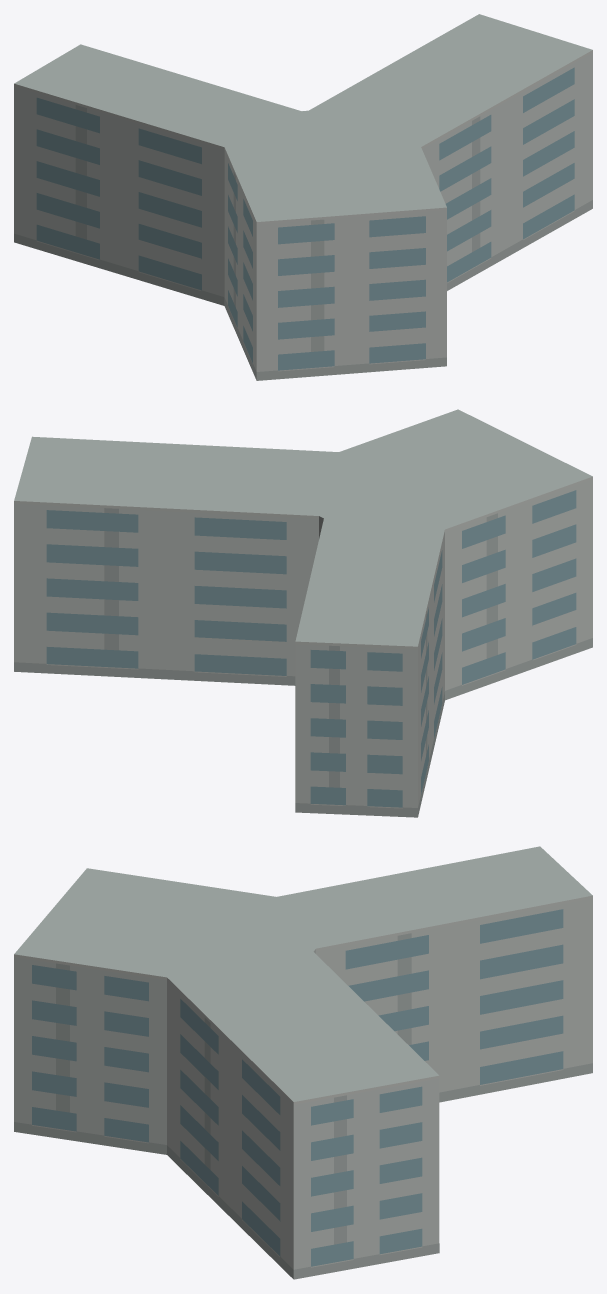
File: residential-6660f8ad-5554-4e43-a82b-9eeefbb15a3d.glb
3 renders of one model, top to bottom at view 1: azimuth 30°, elevation 25°; view 2: azimuth 150°, elevation 25°; view 3: azimuth 270°, elevation 25°, orthographic. The views are drawn at different scales.
Parts seen in each view (by area): view 1: residential-6660f8ad-5554-4e43-a82b-9eeefbb15a3d.tmp; view 2: residential-6660f8ad-5554-4e43-a82b-9eeefbb15a3d.tmp; view 3: residential-6660f8ad-5554-4e43-a82b-9eeefbb15a3d.tmp.
Boxes of the visible parts, x1,y1,x2,y2 form: residential-6660f8ad-5554-4e43-a82b-9eeefbb15a3d.tmp: (14,14,592,380); residential-6660f8ad-5554-4e43-a82b-9eeefbb15a3d.tmp: (14,409,592,817); residential-6660f8ad-5554-4e43-a82b-9eeefbb15a3d.tmp: (14,846,592,1279).
Bounding box in the file's own units: 47.12 × 15.25 × 45.07.
